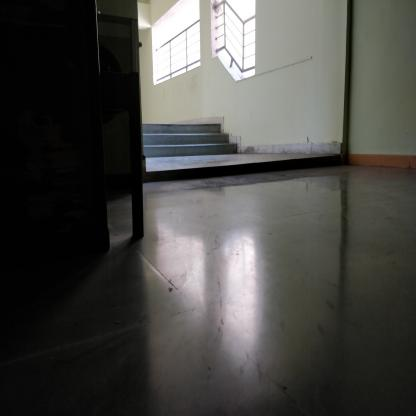stairs: (147, 122, 223, 159)
